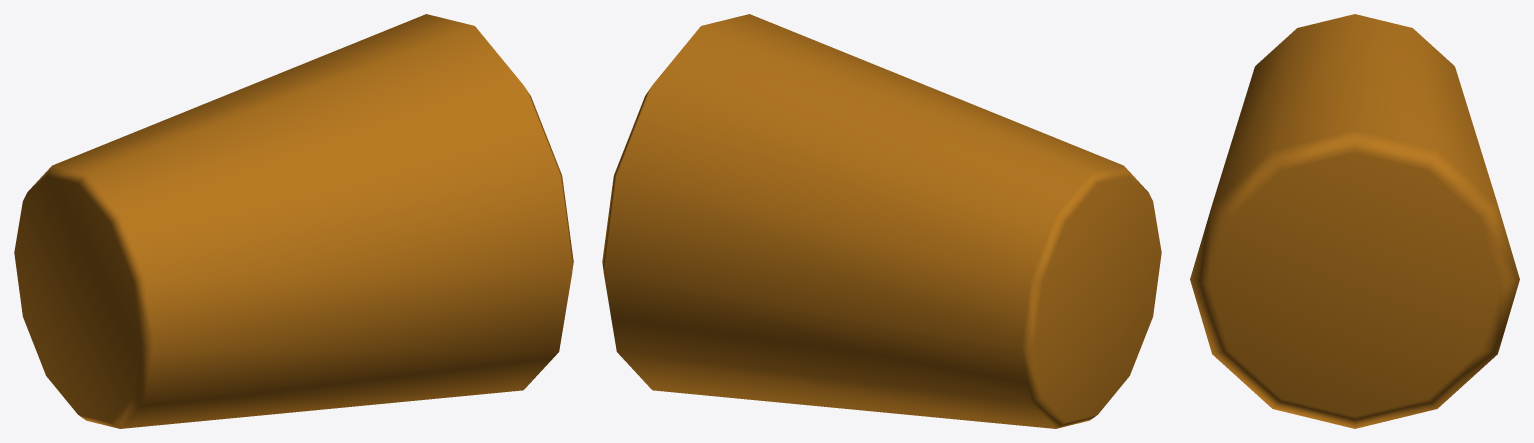
Rendered from Plunger_End.fbx.
3 renders of one model, left to right at view 1: azimuth 30°, elevation 25°; view 2: azimuth 150°, elevation 25°; view 3: azimuth 270°, elevation 25°, orthographic. The views are drawn at different scales.
Visible parts, largest first — view 1: Plunger_End; view 2: Plunger_End; view 3: Plunger_End.
Part boxes in pixels (x1,y1,x2,y2): Plunger_End: [14, 14, 573, 428]; Plunger_End: [602, 14, 1161, 428]; Plunger_End: [1190, 14, 1519, 428].
Size of the model in its own units: 1.66 by 1.37 by 1.37.
